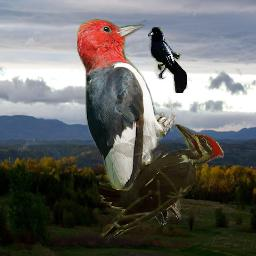Crow: (148, 27, 187, 93)
Woodpecker: (77, 17, 183, 225), (99, 124, 224, 240)
